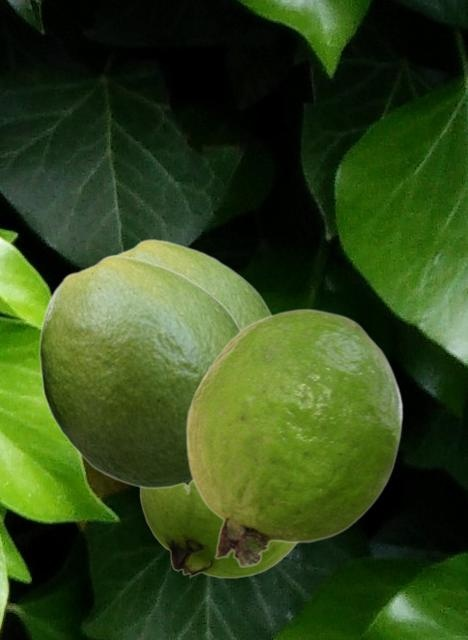guava: (185, 308, 402, 567), (38, 254, 241, 495), (139, 483, 297, 577), (109, 238, 272, 328)
